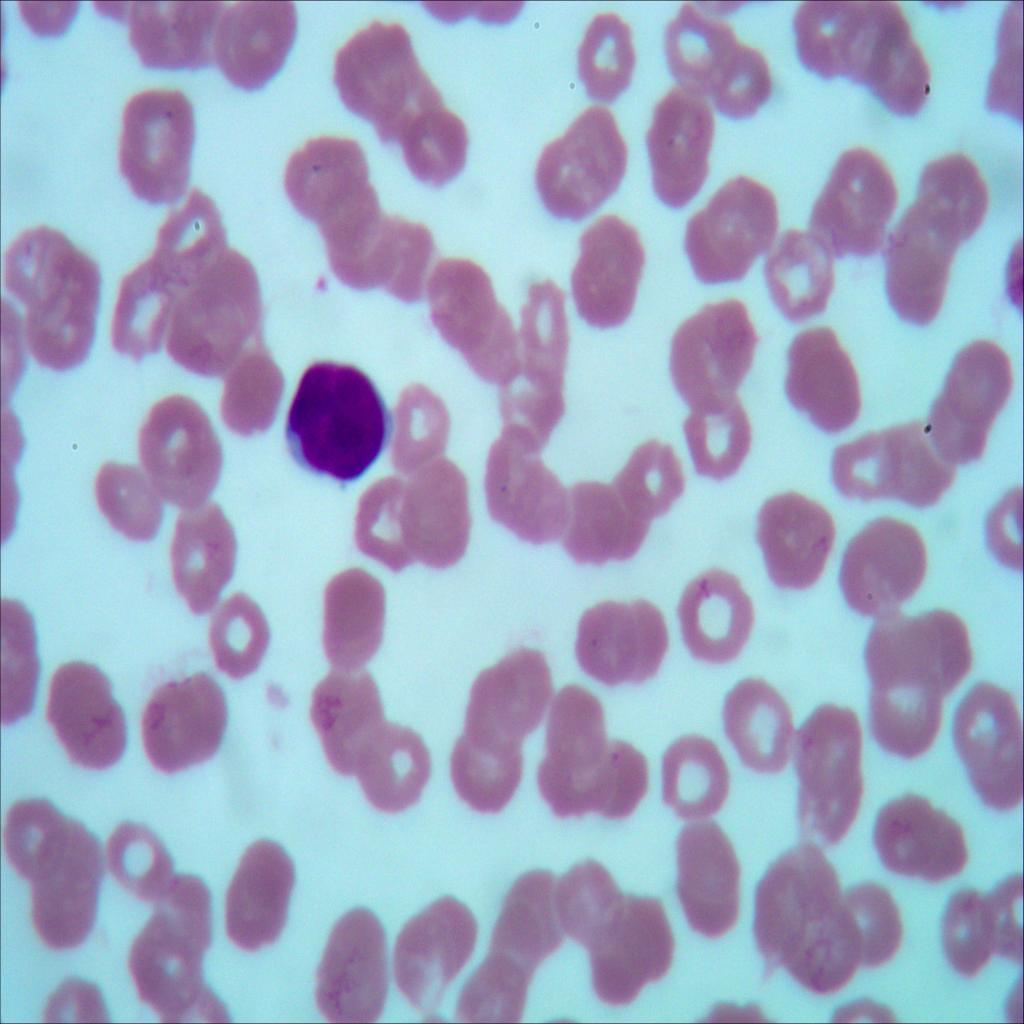Limfoblast: (279, 339, 391, 499)
Platelet: (309, 264, 333, 296)
